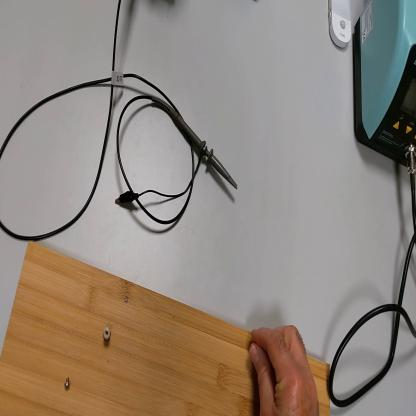hand: (247, 327, 319, 414)
oscilloscope probe tip: (153, 95, 239, 189)
welder station: (351, 3, 416, 171)
working area: (2, 242, 332, 416)
